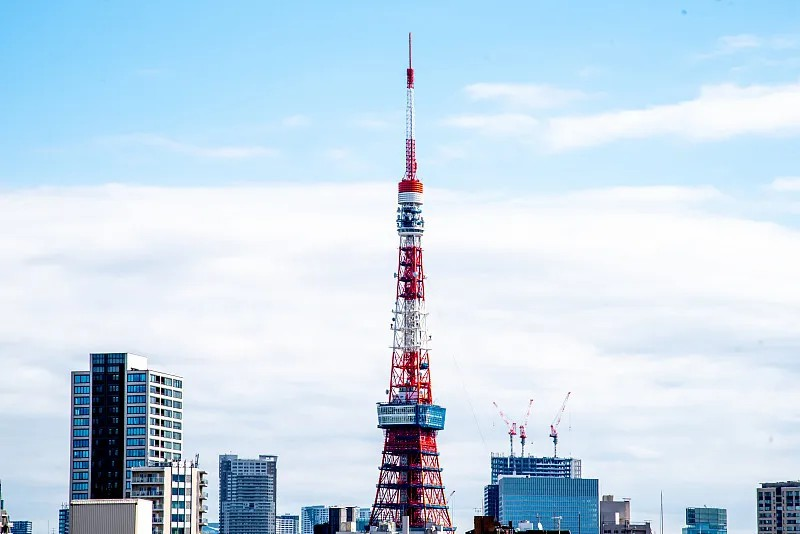Tokyo: (365, 29, 453, 534)
